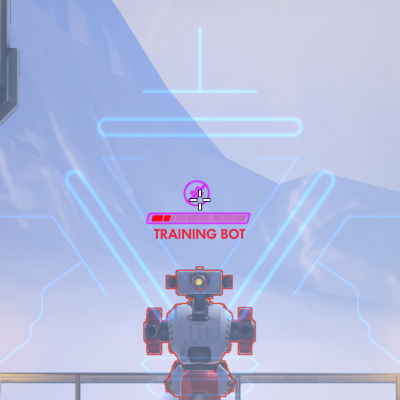hpbar: (151, 214, 246, 222)
